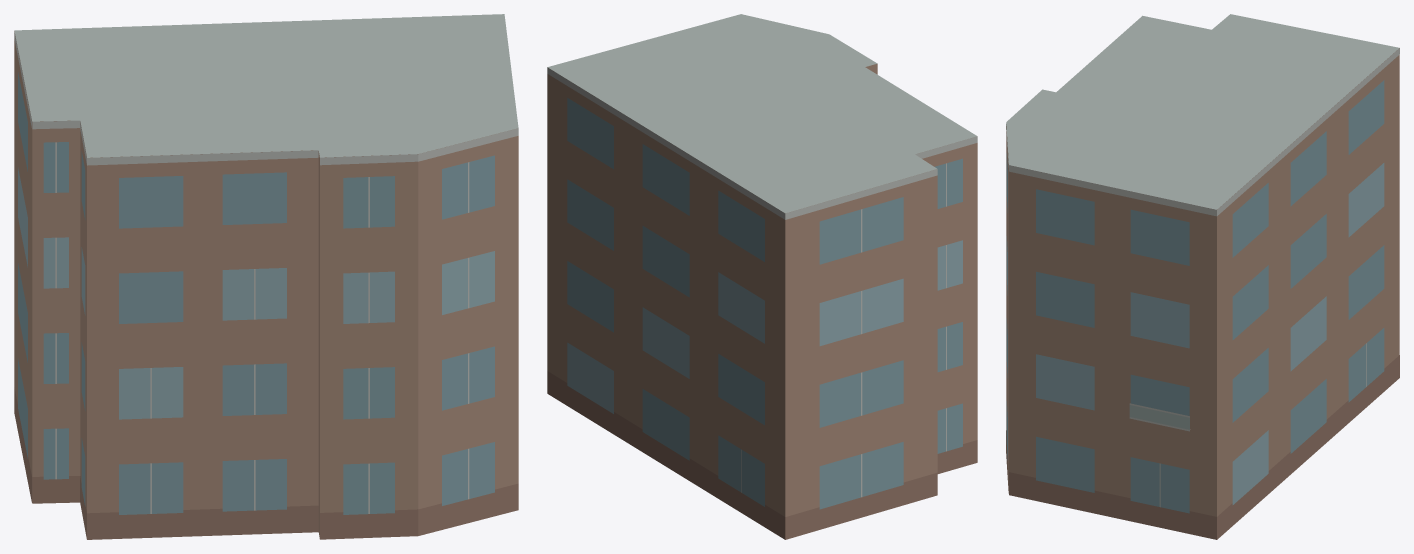
Rendered from survey-upis-32666116.glb.
The picture shows the model from 3 angles, left to right: view 1: azimuth 30°, elevation 25°; view 2: azimuth 150°, elevation 25°; view 3: azimuth 270°, elevation 25°; orthographic projection. The views are drawn at different scales.
Parts seen in each view (by area): view 1: survey-upis-32666116.tmp; view 2: survey-upis-32666116.tmp; view 3: survey-upis-32666116.tmp.
Boxes of the visible parts, x1=… form: survey-upis-32666116.tmp: x1=14, y1=14, x2=518, y2=539; survey-upis-32666116.tmp: x1=547, y1=14, x2=977, y2=539; survey-upis-32666116.tmp: x1=1006, y1=14, x2=1399, y2=539.
Bounding box in the file's own units: 15.6 × 12.25 × 13.25.
